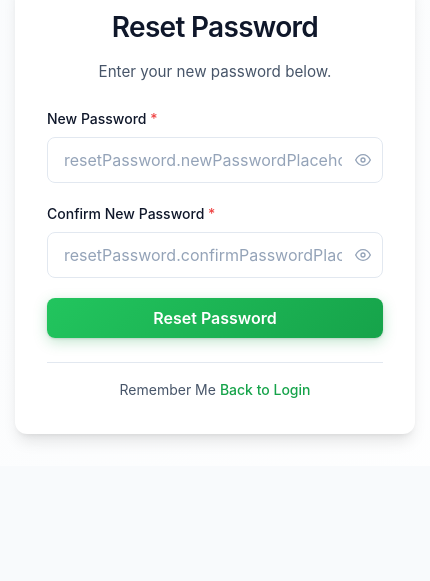
ResetPasswordPage › success flow › shows success message
This screenshot has width=430, height=581.
Type "Password1" into the password field labelled "New Password".
click(215, 160); type("Password1")  # box left=47, top=137, right=383, bottom=183
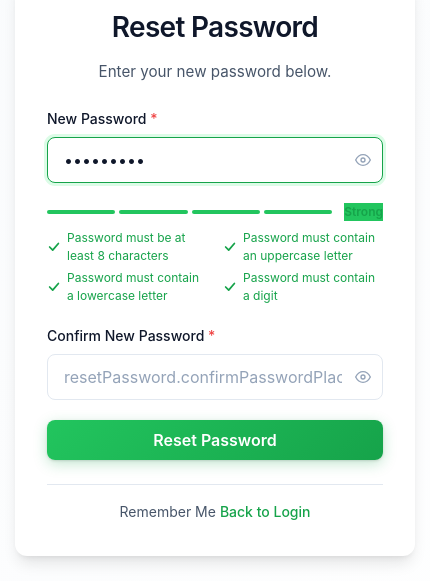
Type "Password1" into the password field labelled "Confirm New Password".
click(215, 377); type("Password1")  # box left=47, top=354, right=383, bottom=400
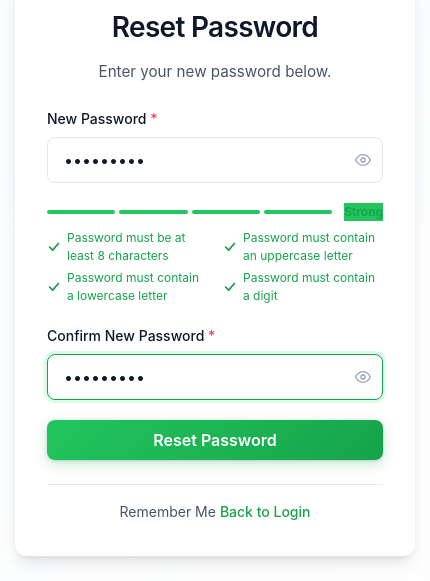
Click the button "Reset Password".
click(215, 440)  # box left=47, top=420, right=383, bottom=460
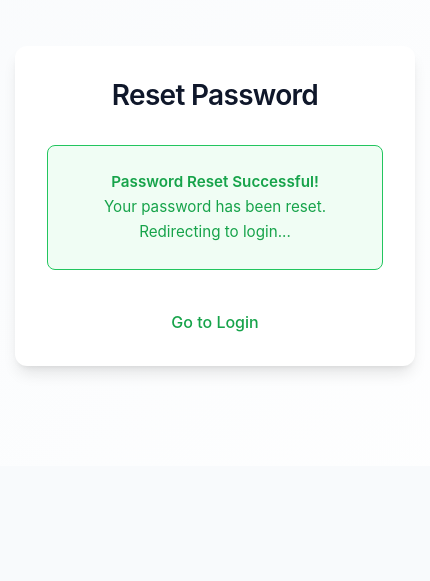
Expected: the text "Password Reset Successful!" is shown, left=111, top=172, right=319, bottom=191
